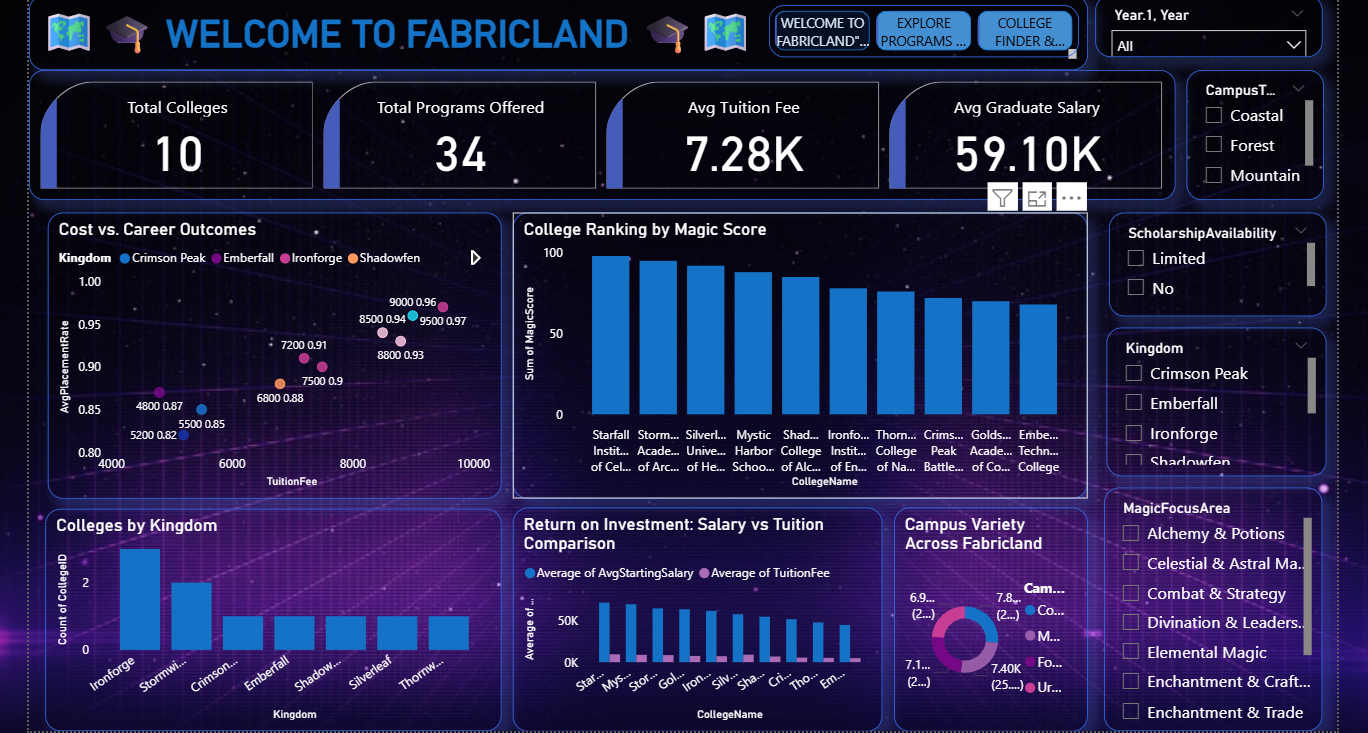

This screenshot's page, from the dashboard's own definition file:
{"tool":"powerbi","page":{"name":"WELCOME TO FABRICLAND\" - Your Journey Starts Here","canvas":[1280,720],"ordinal":0},"visuals":[{"type":"cardVisual","fields":{"Data":["Count(Programs_Majors.CollegeID)","Count(Programs_Majors.ProgramID)","Avg(College_Profiles.TuitionFee)","Avg(College_Profiles.AvgStartingSalary)"]},"box":[0,73.4,1121.3,127.2],"z":0},{"type":"slicer","fields":{"Values":["College_Profiles.Kingdom"]},"box":[1054.1,325.3,215.2,145.5],"z":1000},{"type":"slicer","fields":{"Values":["College_Profiles.MagicFocusArea"]},"box":[1051.6,481.8,214,238.5],"z":2000},{"type":"slicer","fields":{"Values":["College_Profiles.CampusType"]},"box":[1132.3,73.4,134.5,127.2],"z":3000},{"type":"scatterChart","title":"Cost vs. Career Outcomes","fields":{"X":["College_Profiles.TuitionFee"],"Series":["College_Profiles.Kingdom"],"Y":["College_Profiles.AvgPlacementRate"],"Size":["Avg(College_Profiles.MagicScore)"]},"box":[18.3,212.8,443.9,280],"z":4000},{"type":"columnChart","title":"College Ranking by Magic Score","fields":{"Category":["College_Profiles.CollegeName"],"Y":["Sum(College_Profiles.MagicScore)"]},"box":[473.2,212.8,562.5,280],"z":5000},{"type":"lineClusteredColumnComboChart","title":"Return on Investment: Salary vs Tuition Comparison","fields":{"Category":["College_Profiles.CollegeName"],"Y":["Avg(College_Profiles.AvgStartingSalary)","Avg(College_Profiles.TuitionFee)"]},"box":[473.2,501.4,362,218.9],"z":6000},{"type":"slicer","fields":{"Values":["Programs_Majors.Year.1","Programs_Majors.Year"]},"box":[1043.1,0,222.6,61.1],"z":7000},{"type":"columnChart","title":"Colleges by Kingdom","fields":{"Category":["College_Profiles.Kingdom"],"Y":["CountNonNull(College_Profiles.CollegeID)"]},"box":[15.9,502.6,446.3,217.7],"z":8000},{"type":"slicer","fields":{"Values":["College_Profiles.ScholarshipAvailability"]},"box":[1056.5,212.8,212.8,101.5],"z":9000},{"type":"donutChart","title":"Campus Variety Across Fabricland","fields":{"Category":["College_Profiles.CampusType"],"Y":["Avg(College_Profiles.TuitionFee)"]},"box":[846.7,500.9,189.4,219.6],"z":10000},{"type":"textbox","title":"🗺️🎓 WELCOME TO FABRICLAND 🎓🗺️","box":[0,0,1035.7,73.4],"z":10001},{"type":"pageNavigator","box":[723.9,9.8,303.3,51.4],"z":10003}]}

Visuals, with their boxes on the page's 1280x720 design canvas (x1, y1, x2, y2). These are canvas units, not pixel positions in the 1368x733 screenshot, which may show the page scaled, cropped or inside an application window:
cardVisual - Count(Programs_Majors.CollegeID) x Count(Programs_Majors.ProgramID): (left=0, top=73, right=1121, bottom=201)
slicer - College_Profiles.Kingdom: (left=1054, top=325, right=1269, bottom=471)
slicer - College_Profiles.MagicFocusArea: (left=1052, top=482, right=1266, bottom=720)
slicer - College_Profiles.CampusType: (left=1132, top=73, right=1267, bottom=201)
"Cost vs. Career Outcomes" scatterChart: (left=18, top=213, right=462, bottom=493)
"College Ranking by Magic Score" columnChart: (left=473, top=213, right=1036, bottom=493)
"Return on Investment: Salary vs Tuition Comparison" lineClusteredColumnComboChart: (left=473, top=501, right=835, bottom=720)
slicer - Programs_Majors.Year.1 x Programs_Majors.Year: (left=1043, top=0, right=1266, bottom=61)
"Colleges by Kingdom" columnChart: (left=16, top=503, right=462, bottom=720)
slicer - College_Profiles.ScholarshipAvailability: (left=1056, top=213, right=1269, bottom=314)
"Campus Variety Across Fabricland" donutChart: (left=847, top=501, right=1036, bottom=720)
"🗺️🎓 WELCOME TO FABRICLAND 🎓🗺️" textbox: (left=0, top=0, right=1036, bottom=73)
pageNavigator: (left=724, top=10, right=1027, bottom=61)
